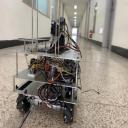cart: (11, 45, 81, 124)
